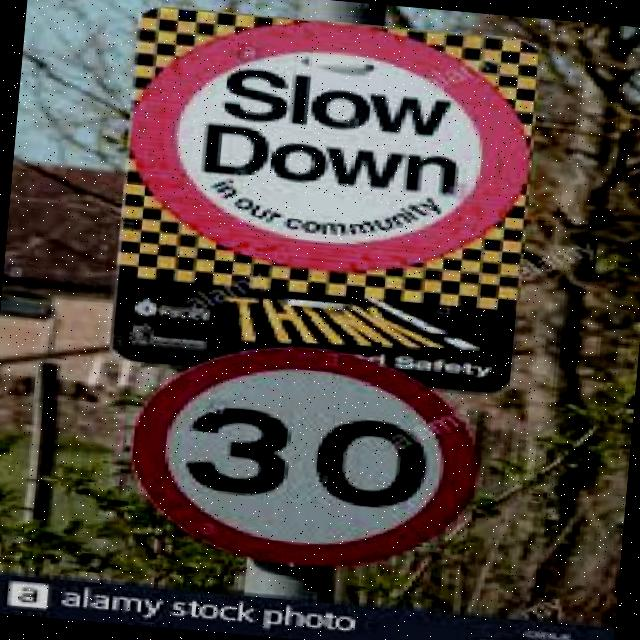Ograniczenie predkosci do 30: (123, 338, 485, 578)
